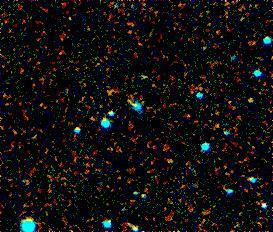star: (238, 86, 268, 116)
